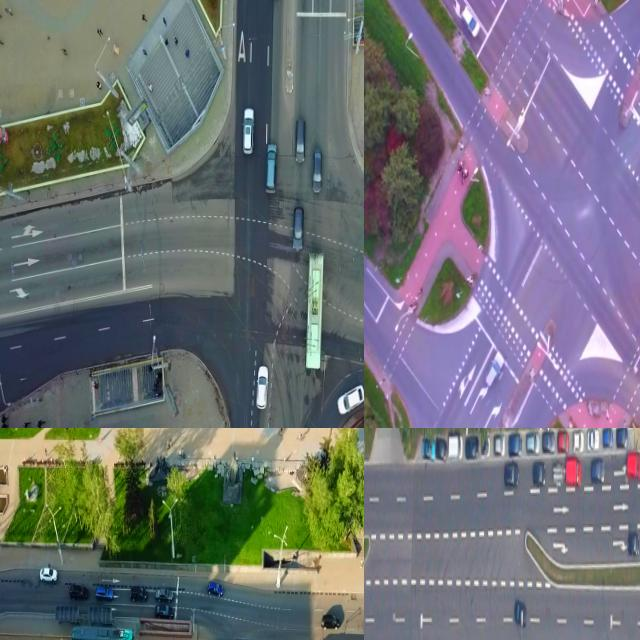UAI: (336, 382, 364, 415), (484, 349, 504, 387), (461, 3, 481, 37), (264, 143, 277, 194), (241, 106, 254, 154), (292, 205, 305, 250), (256, 365, 269, 409), (312, 148, 323, 194), (295, 118, 306, 162), (566, 457, 581, 486), (504, 461, 519, 487), (448, 434, 462, 460), (627, 451, 640, 478), (69, 584, 89, 601), (591, 458, 605, 482), (515, 600, 527, 627), (533, 461, 546, 485), (509, 433, 522, 457), (321, 614, 340, 630), (155, 603, 175, 618), (422, 436, 435, 459), (95, 585, 113, 601), (130, 587, 148, 603), (466, 435, 478, 458), (207, 580, 224, 596), (553, 461, 563, 488), (628, 532, 639, 556), (587, 428, 599, 450), (527, 433, 540, 453), (436, 437, 447, 460), (39, 567, 57, 581), (543, 430, 555, 451), (155, 588, 174, 601), (558, 432, 569, 452), (616, 428, 628, 446), (495, 434, 505, 455), (574, 431, 584, 452), (603, 428, 613, 447), (482, 435, 490, 456)
car: (305, 251, 324, 369), (71, 627, 135, 640)
